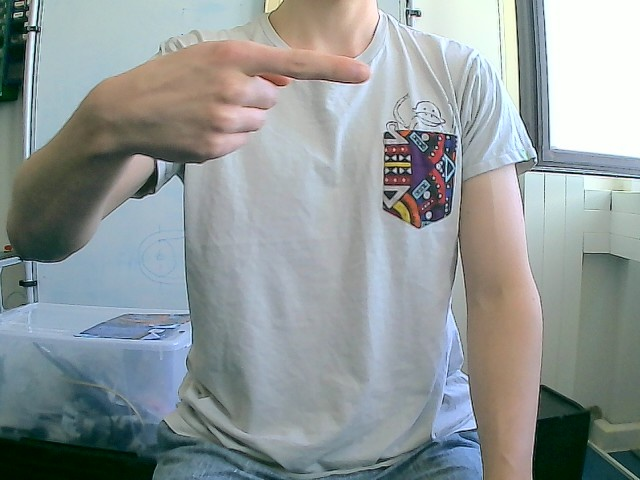left: (141, 40, 375, 169)
